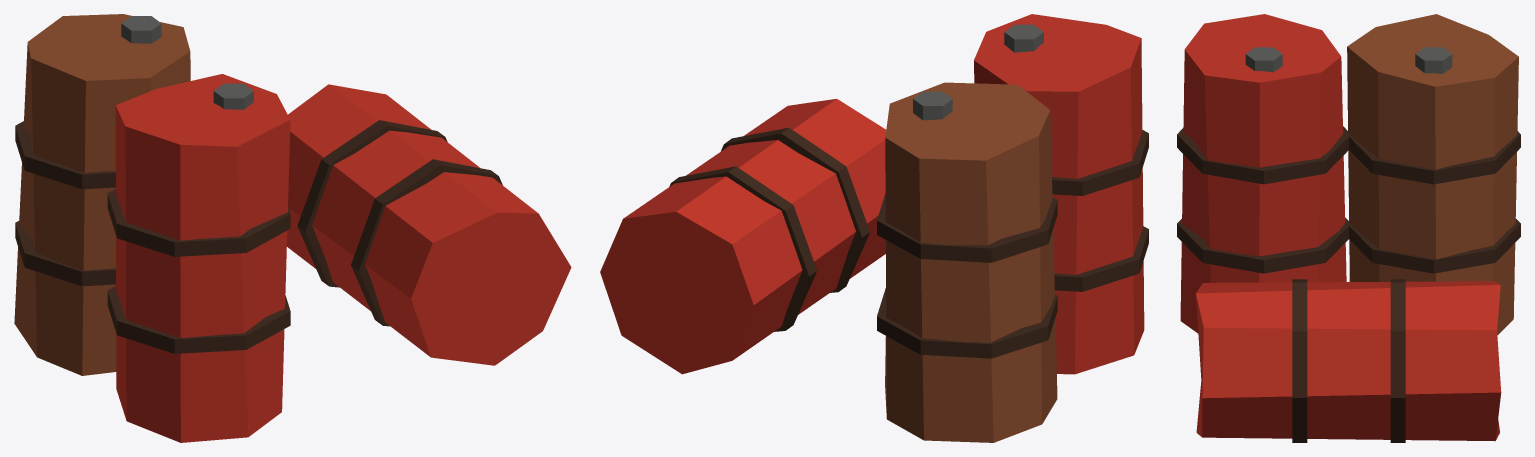
The model's file is good_fuel_drums.glb.
3 views of the same model, side by side, from view 1: azimuth 30°, elevation 25°; view 2: azimuth 150°, elevation 25°; view 3: azimuth 270°, elevation 25° (orthographic). The views are drawn at different scales.
Visible parts, largest first — view 1: good_fuel_drums; view 2: good_fuel_drums; view 3: good_fuel_drums.
Boxes of the visible parts, x1,y1,x2,y2 form: good_fuel_drums: (14,14,571,442); good_fuel_drums: (600,14,1148,442); good_fuel_drums: (1177,14,1520,442).
Size of the model in its own units: 0.606 by 0.42 by 0.466.
